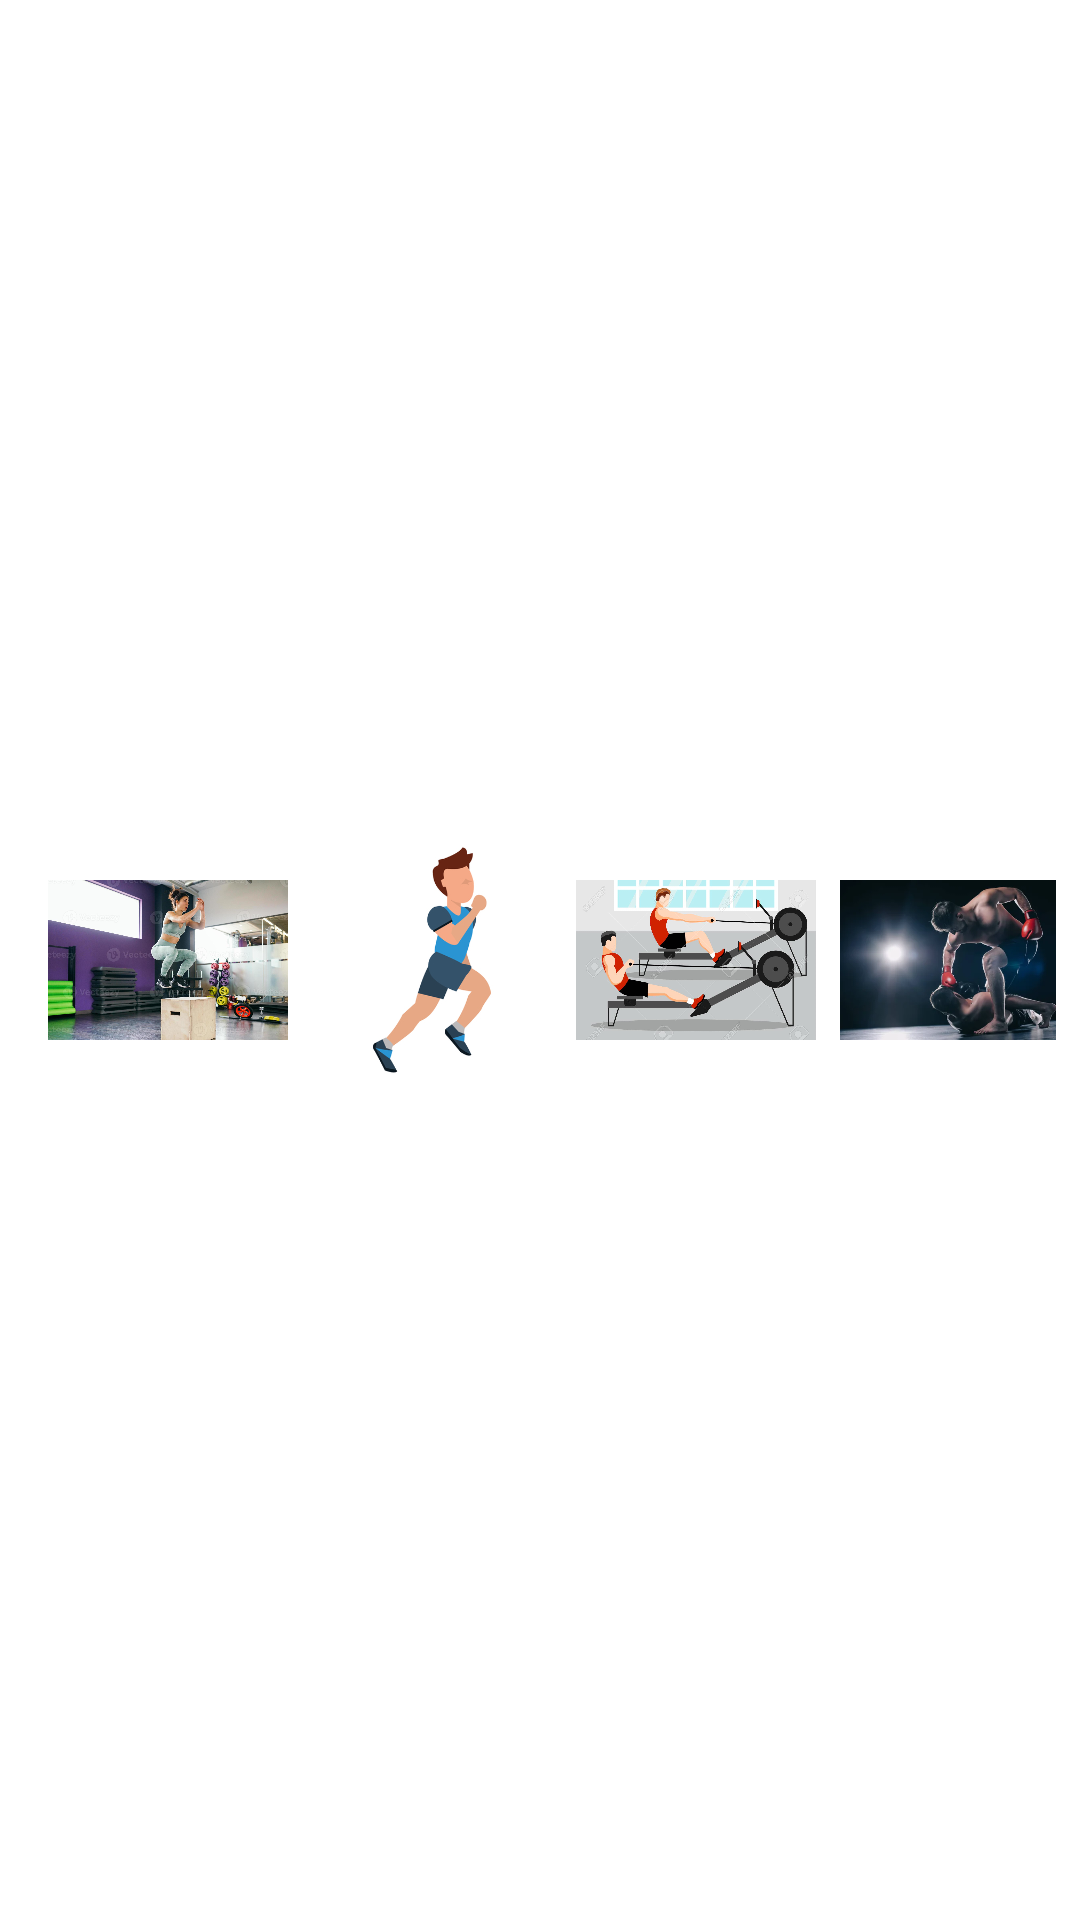

Icons on this 1080w x 1920h Android screen, each with the point to tap as (x,y):
correr: (432,960)
mma: (948,960)
remo: (696,960)
saltar: (168,960)
